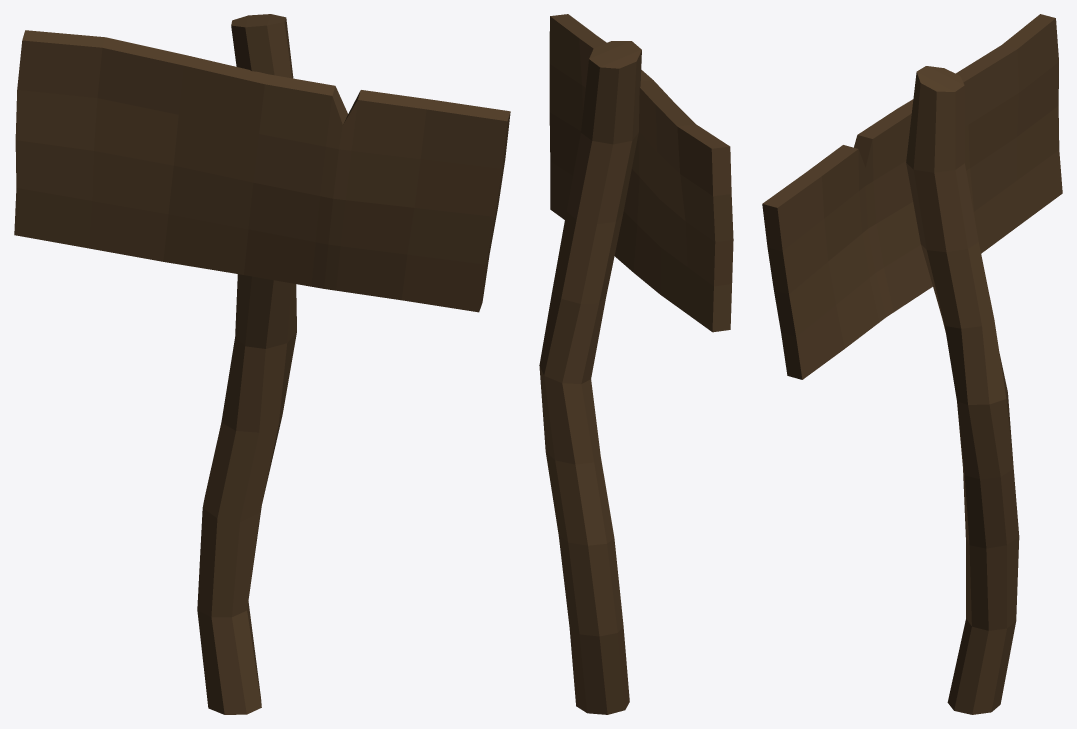
The model's file is sign.fbx.
3 views of the same model, side by side, from view 1: azimuth 30°, elevation 25°; view 2: azimuth 150°, elevation 25°; view 3: azimuth 270°, elevation 25° (orthographic). The views are drawn at different scales.
Parts seen in each view (by area): view 1: sign; view 2: sign; view 3: sign.
Part boxes in pixels (x1,y1,x2,y2): sign: (14, 14, 510, 714); sign: (539, 14, 733, 714); sign: (762, 14, 1062, 714).
Bounding box in the file's own units: 35.72 × 68.81 × 29.63.
